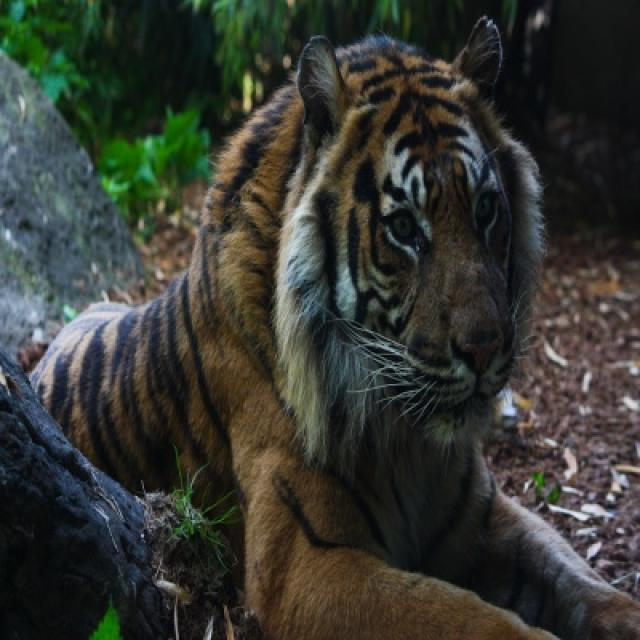Tiger: (30, 17, 638, 638)
